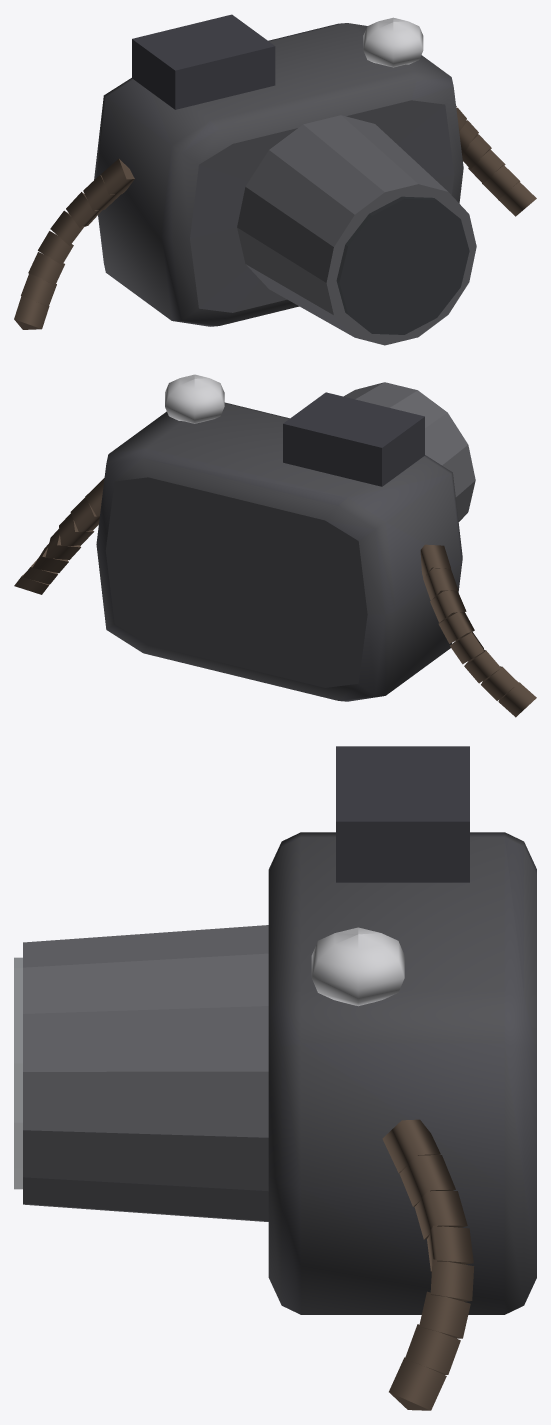
Rendered from police_camera_a.glb.
3 renders of one model, top to bottom at view 1: azimuth 30°, elevation 25°; view 2: azimuth 150°, elevation 25°; view 3: azimuth 270°, elevation 25°, orthographic. The views are drawn at different scales.
Parts seen in each view (by area): view 1: body; view 2: body; view 3: body.
Part boxes in pixels (bbox=[...]): body: bbox=[14, 14, 536, 345]; body: bbox=[14, 374, 536, 717]; body: bbox=[14, 746, 536, 1410].
Size of the model in its own units: 0.2082 by 0.0968 by 0.117.
